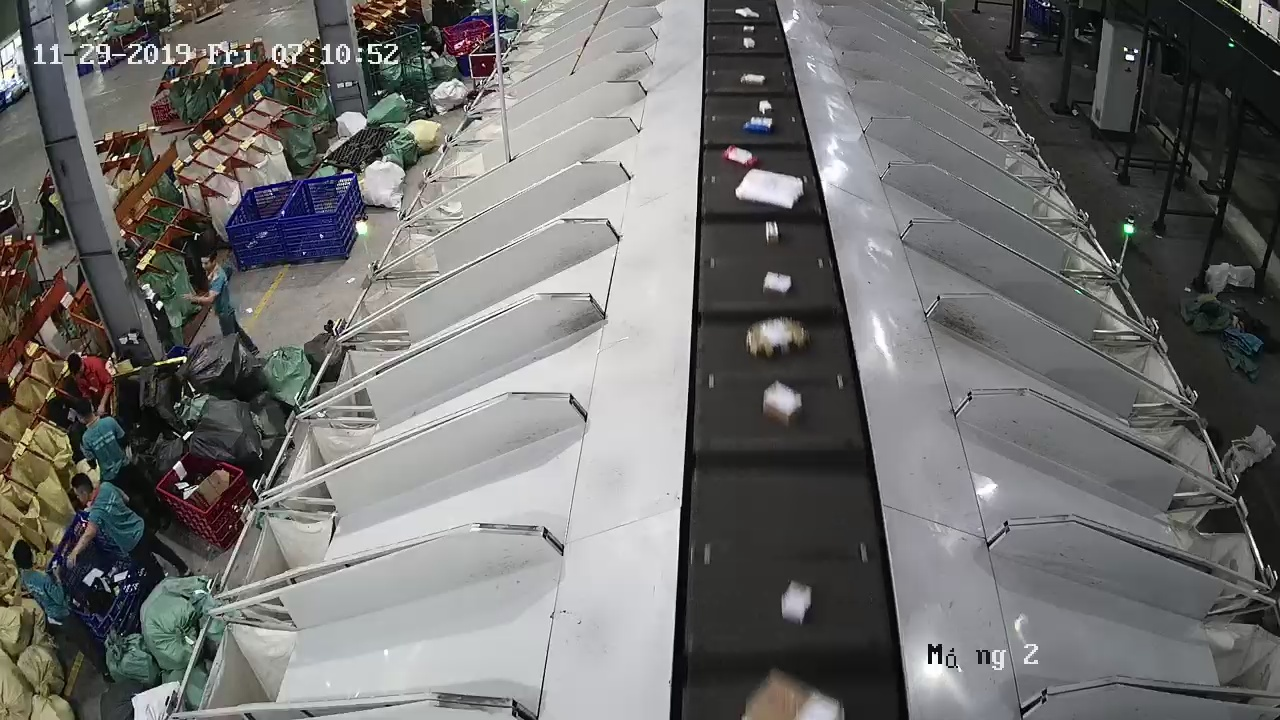parcel: (735, 168, 805, 209), (745, 317, 811, 359), (763, 381, 803, 429), (780, 580, 812, 626), (721, 145, 762, 168), (762, 271, 792, 298), (765, 221, 780, 246)
